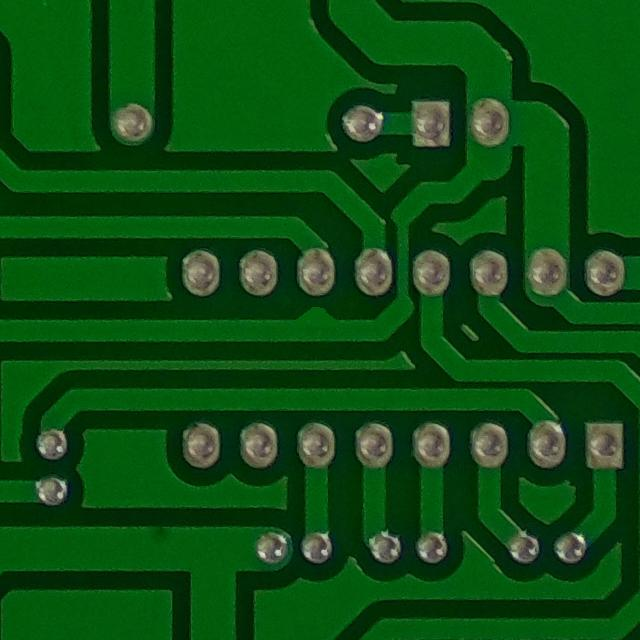spur: (288, 299, 352, 341)
